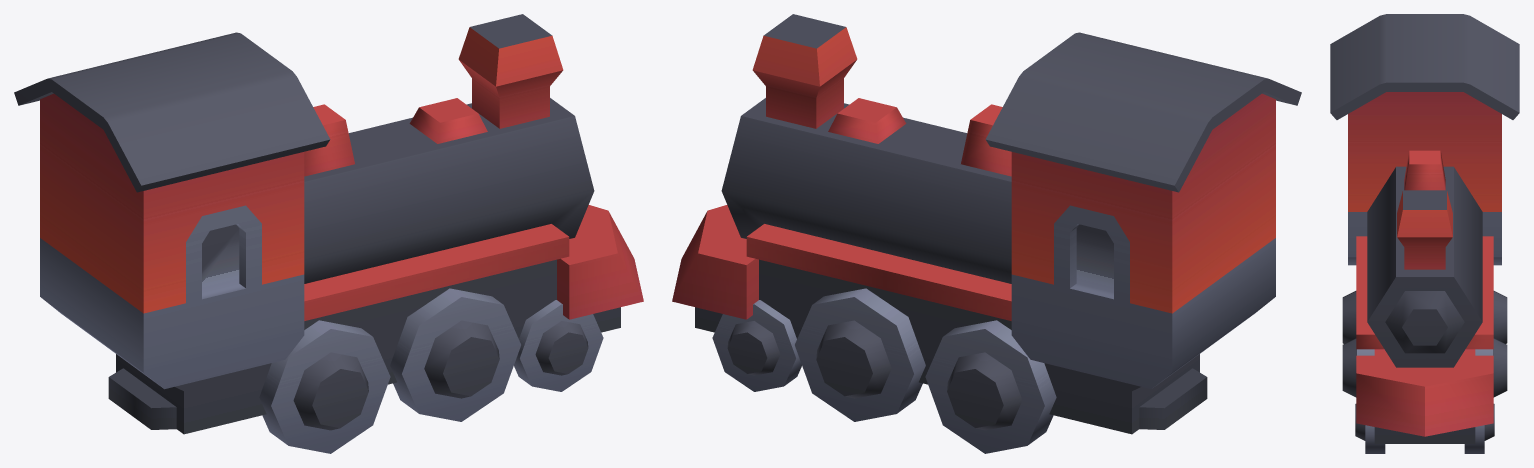
File: toy_locomotive.glb
3 renders of one model, left to right at view 1: azimuth 30°, elevation 25°; view 2: azimuth 150°, elevation 25°; view 3: azimuth 270°, elevation 25°, orthographic. The views are drawn at different scales.
Parts seen in each view (by area): view 1: train-locomotive; view 2: train-locomotive; view 3: train-locomotive.
Boxes of the visible parts, x1,y1,x2,y2 form: train-locomotive: (14, 14, 643, 453); train-locomotive: (672, 14, 1301, 453); train-locomotive: (1330, 14, 1519, 453).
Size of the model in its own units: 0.6695 by 0.4283 by 0.2651.
Materials: 1 (1 with a texture image).
